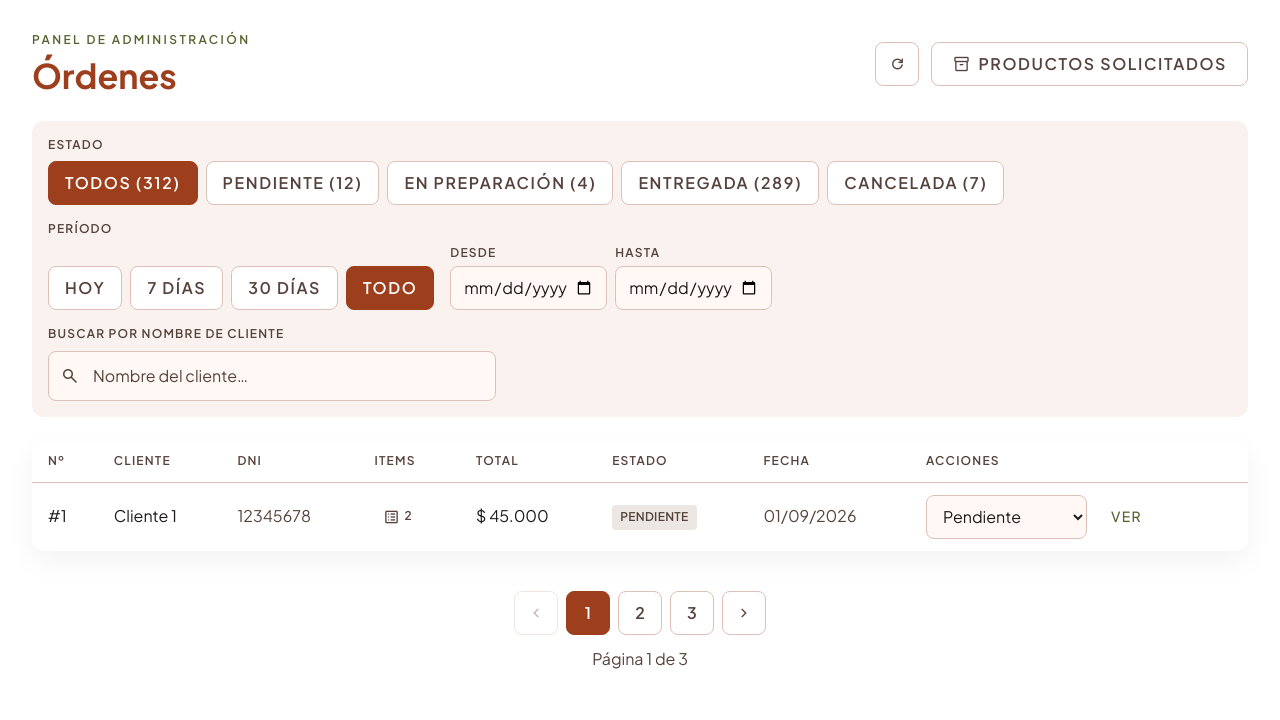
Test: AdminOrdenes — el resumen abierto no sobrevive a un cambio de vista › se cierra al cambiar de página
expect the heading "Órdenes" is shown: met, box [32,54,177,97]
Click the button named "productos de la orden #1" at point(398, 516), box [374,494,421,538]
(page scrolled)
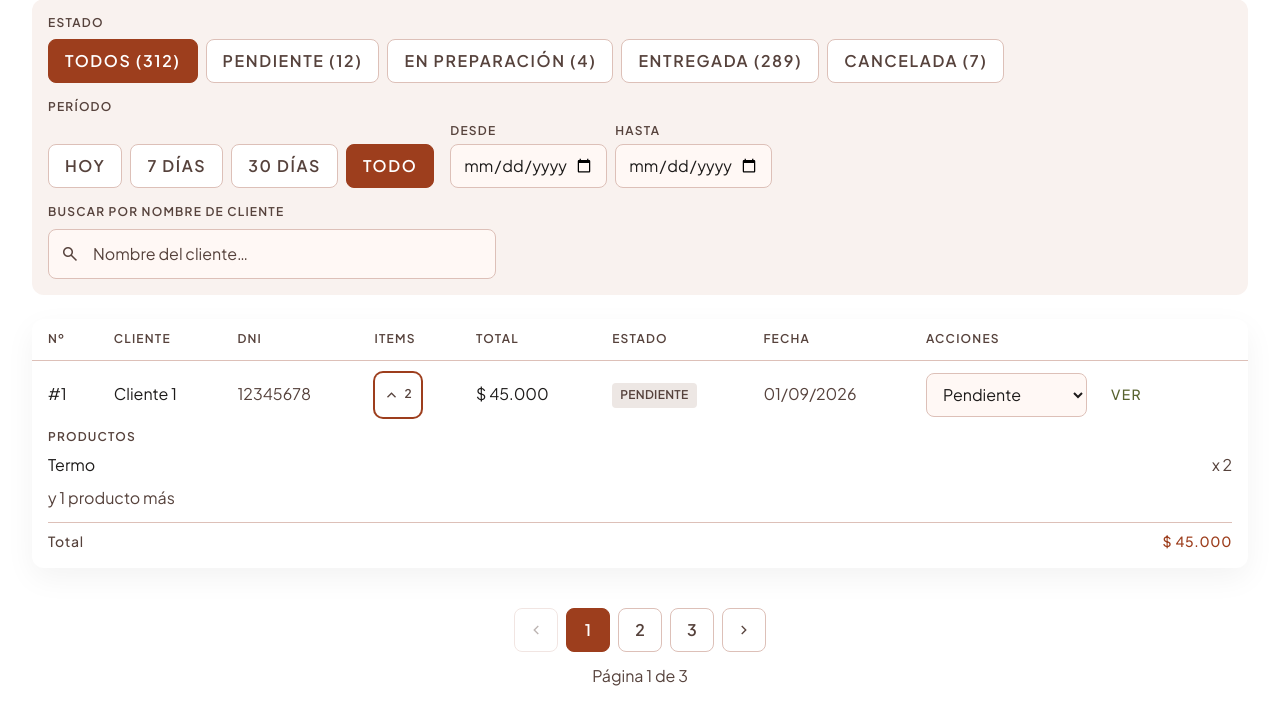
expect the button named "productos de la orden #1" is expanded: met, box [374,372,421,416]
Click the button named "Página 2" at point(640, 630), box [618,608,662,652]
(page scrolled)
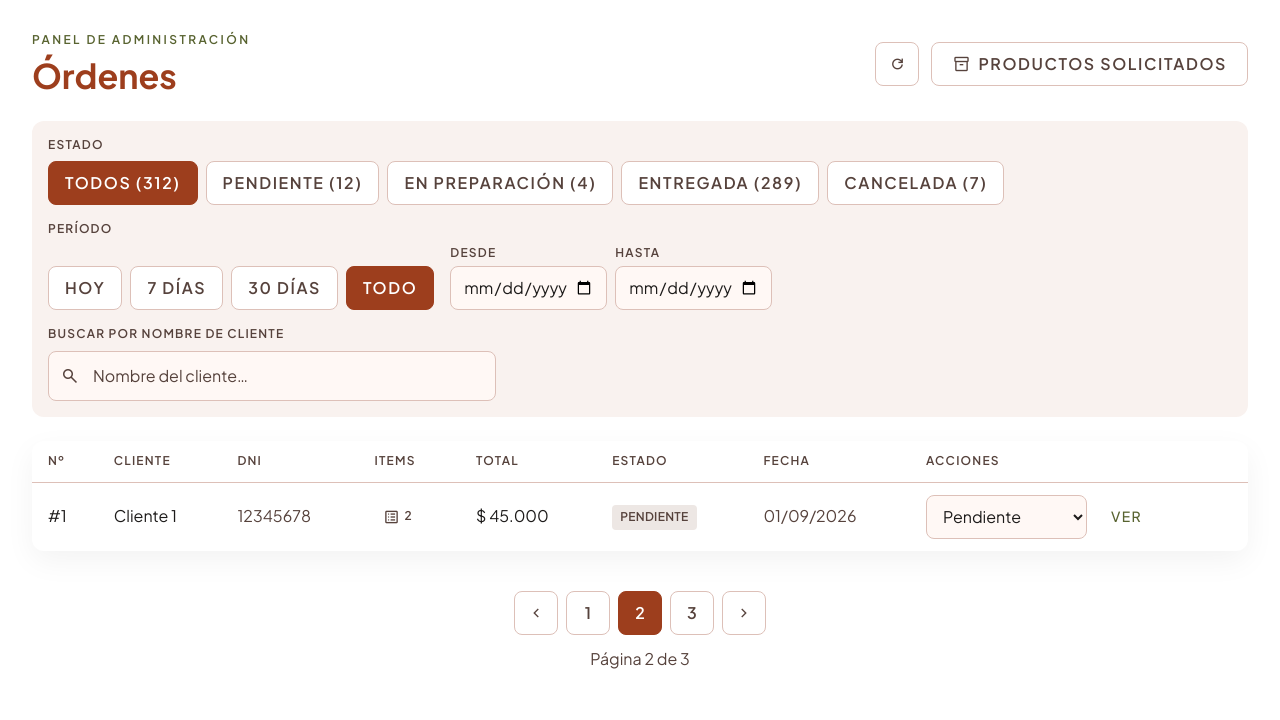
expect the button named "productos de la orden #1" is collapsed: met, box [374,494,421,538]
